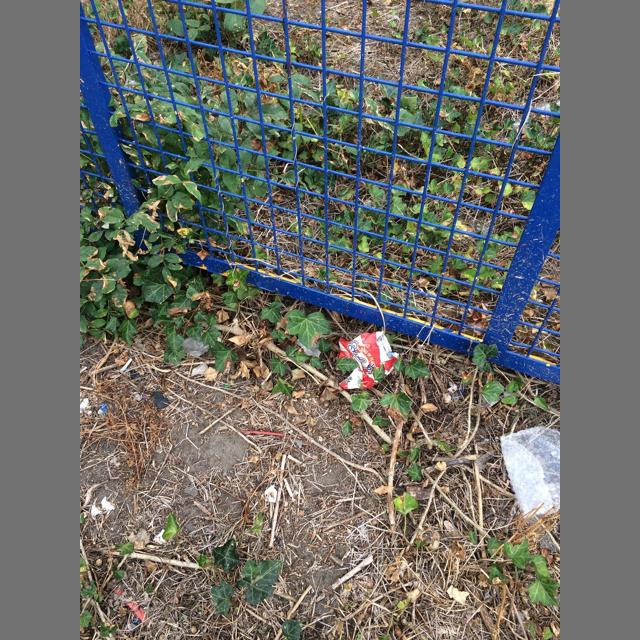litter: (500, 427, 560, 518), (339, 330, 399, 389)
